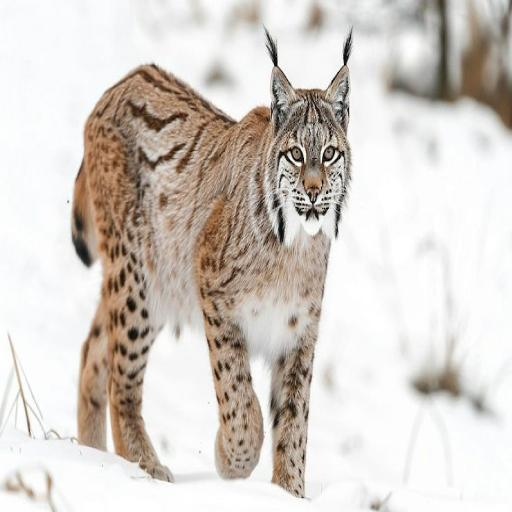lynx: (71, 30, 351, 496)
